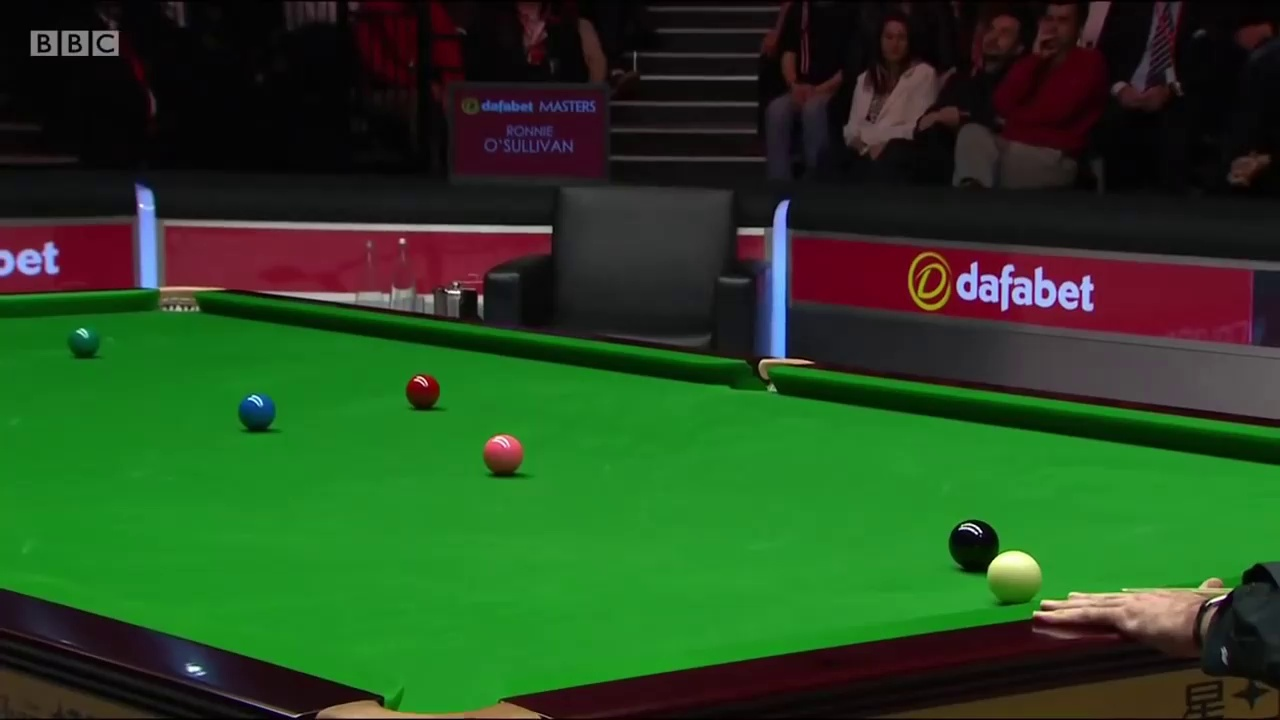black: (948, 518, 995, 572)
blue: (237, 393, 276, 431)
green: (65, 329, 100, 358)
pink: (483, 434, 524, 472)
red: (406, 375, 440, 408)
white: (987, 550, 1041, 603)
